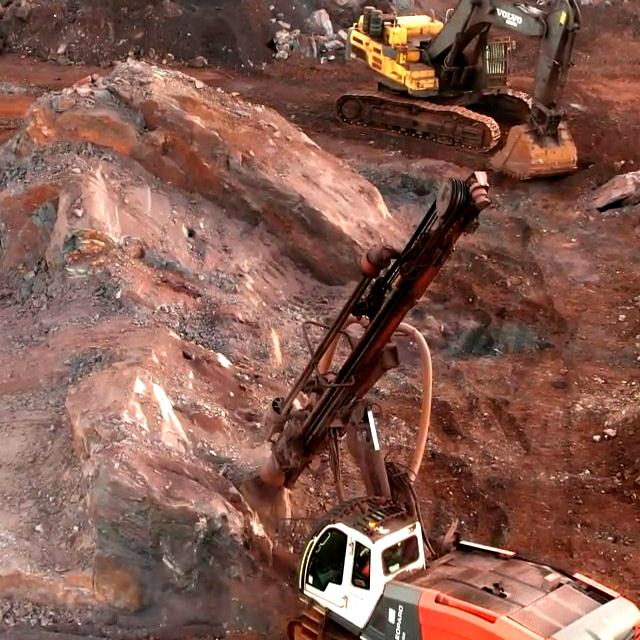Blast rig: (468, 584, 616, 640)
Excavator: (351, 0, 552, 133)
